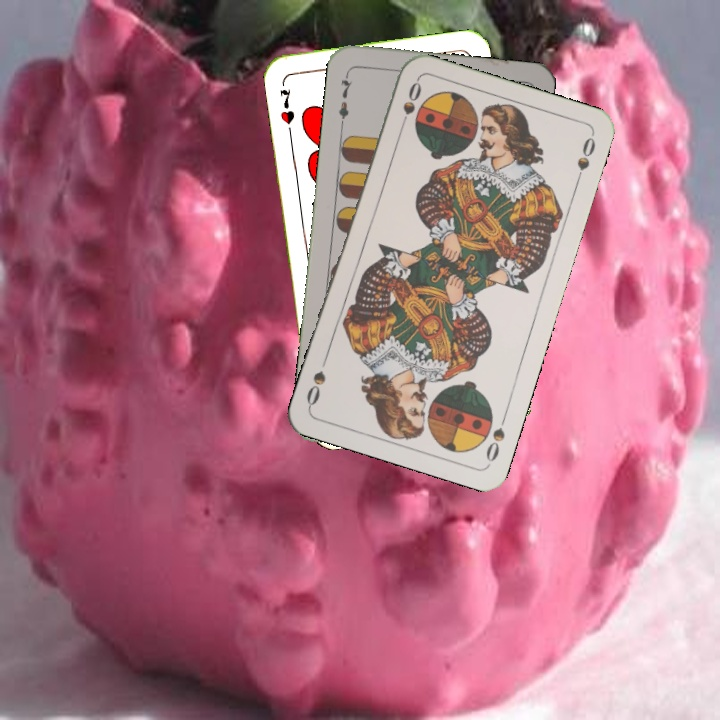E7: (334, 68, 355, 128)
H7: (275, 85, 297, 127)
SO: (395, 77, 424, 134), (482, 409, 510, 465)
